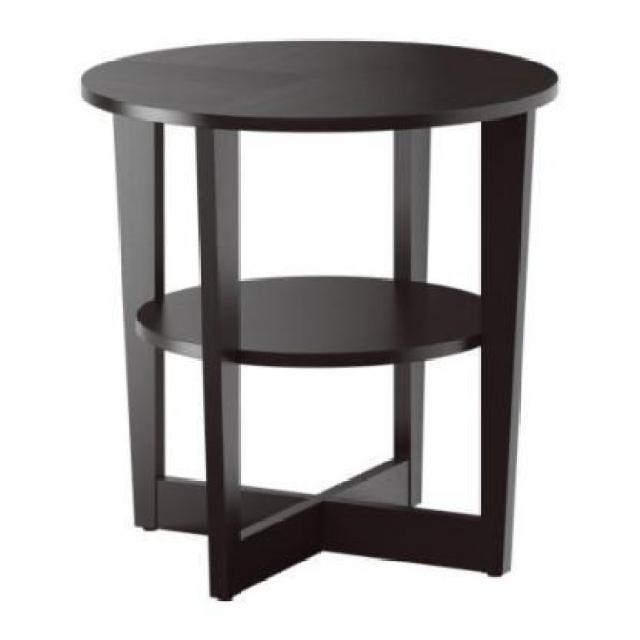tables: (79, 37, 558, 600)
